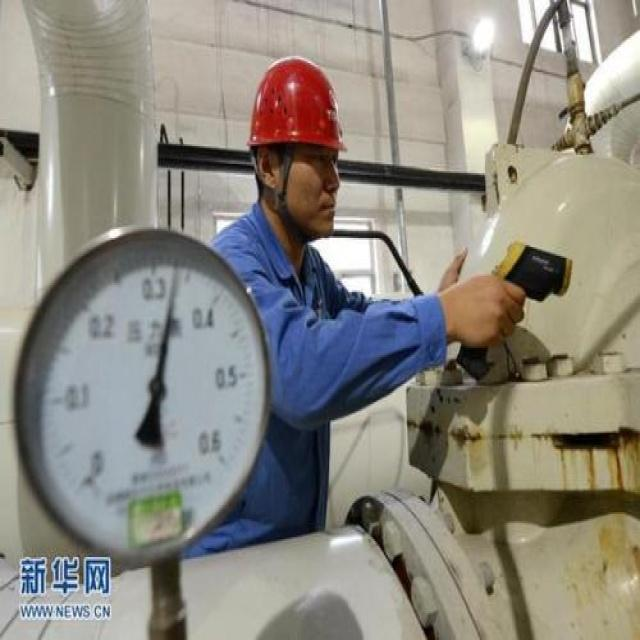helmet: (241, 60, 356, 329)
